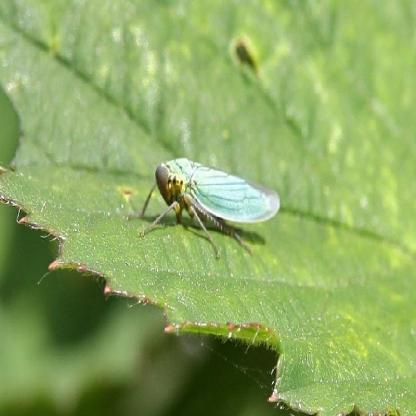Green-Leafhopper: (144, 158, 281, 253)
